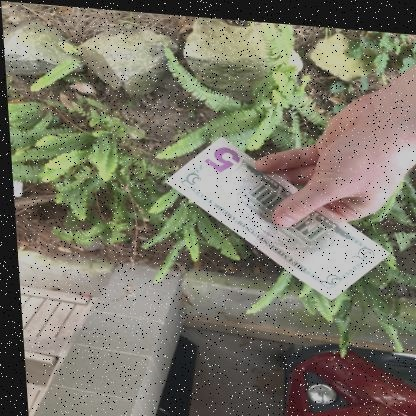five-back: (162, 137, 393, 302)
